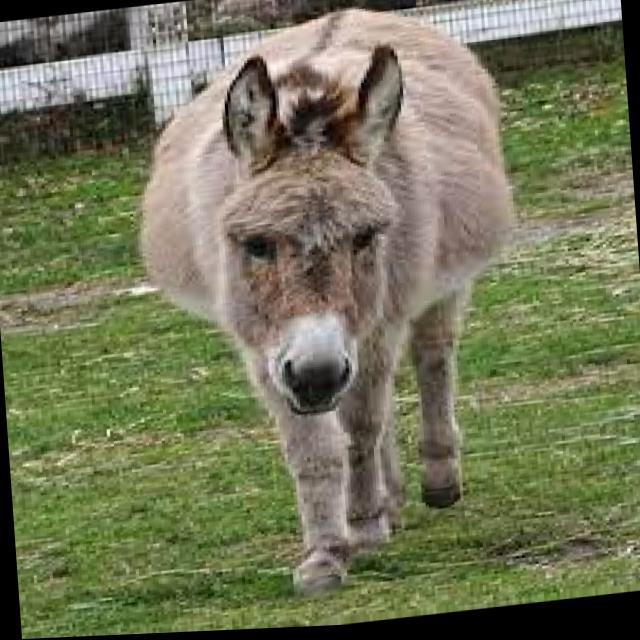Donkey: (77, 0, 594, 637)
